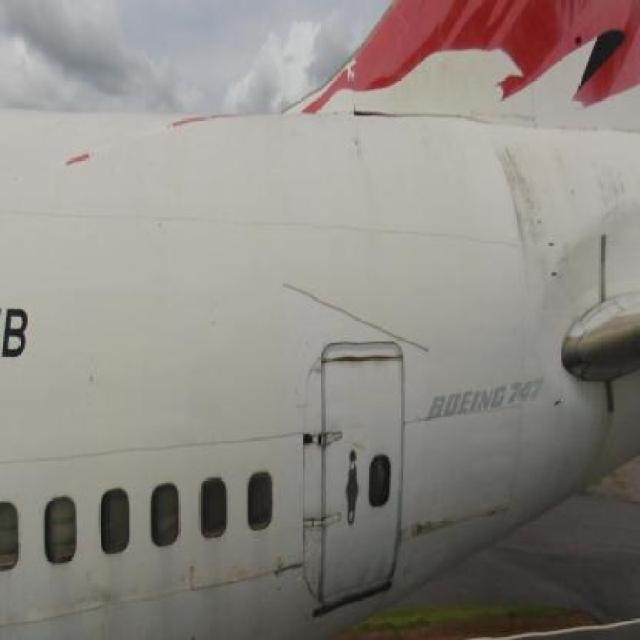Rust: (495, 140, 562, 285), (573, 140, 632, 225), (400, 506, 503, 543), (590, 398, 622, 472), (324, 348, 404, 375), (352, 546, 390, 589)
Scartch: (80, 569, 140, 640), (248, 547, 308, 598)
